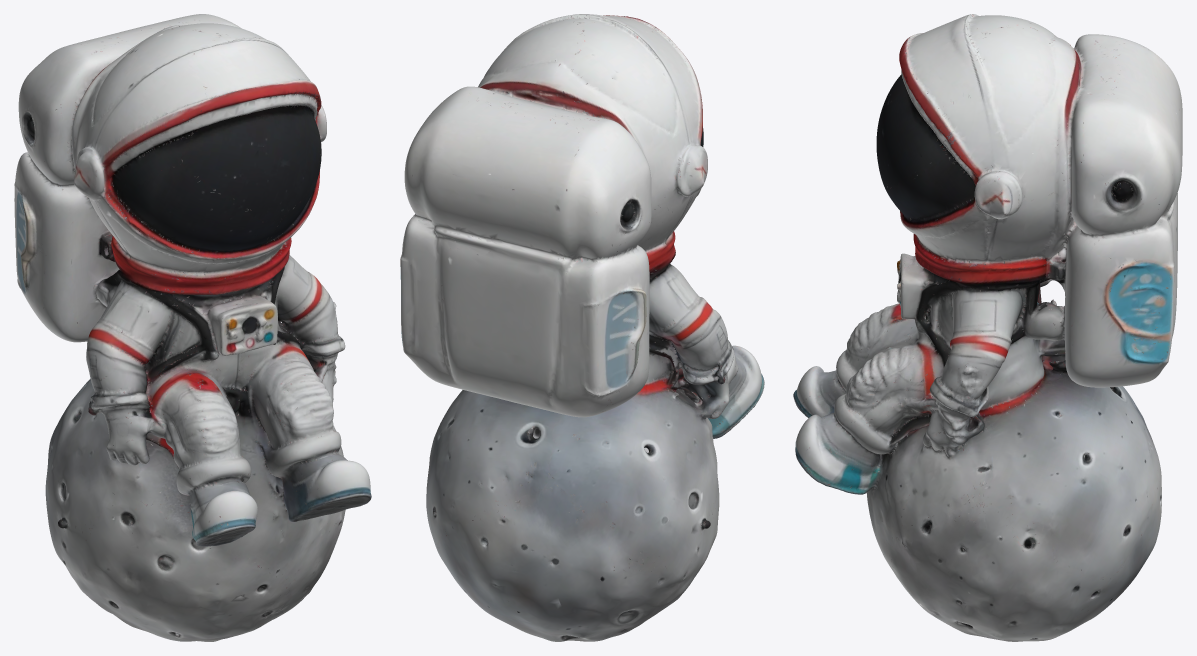
File: astronaut.glb
The picture shows the model from 3 angles, left to right: view 1: azimuth 30°, elevation 25°; view 2: azimuth 150°, elevation 25°; view 3: azimuth 270°, elevation 25°; orthographic projection.
Visible parts, largest first — view 1: mesh_0; view 2: mesh_0; view 3: mesh_0.
Boxes of the visible parts, x1,y1,x2,y2 form: mesh_0: (14,14,371,641); mesh_0: (400,14,764,641); mesh_0: (793,14,1182,641).
Bounding box in the file's own units: 30888 × 65534 × 38972.
Materials: 1 (1 with a texture image).
